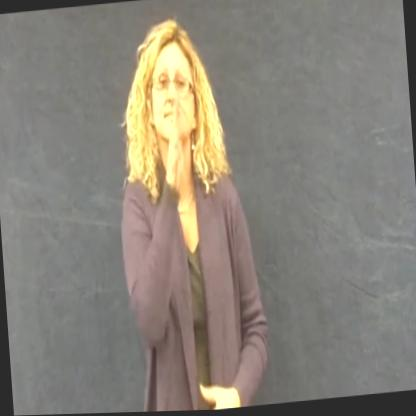Talk: (106, 8, 272, 414)
